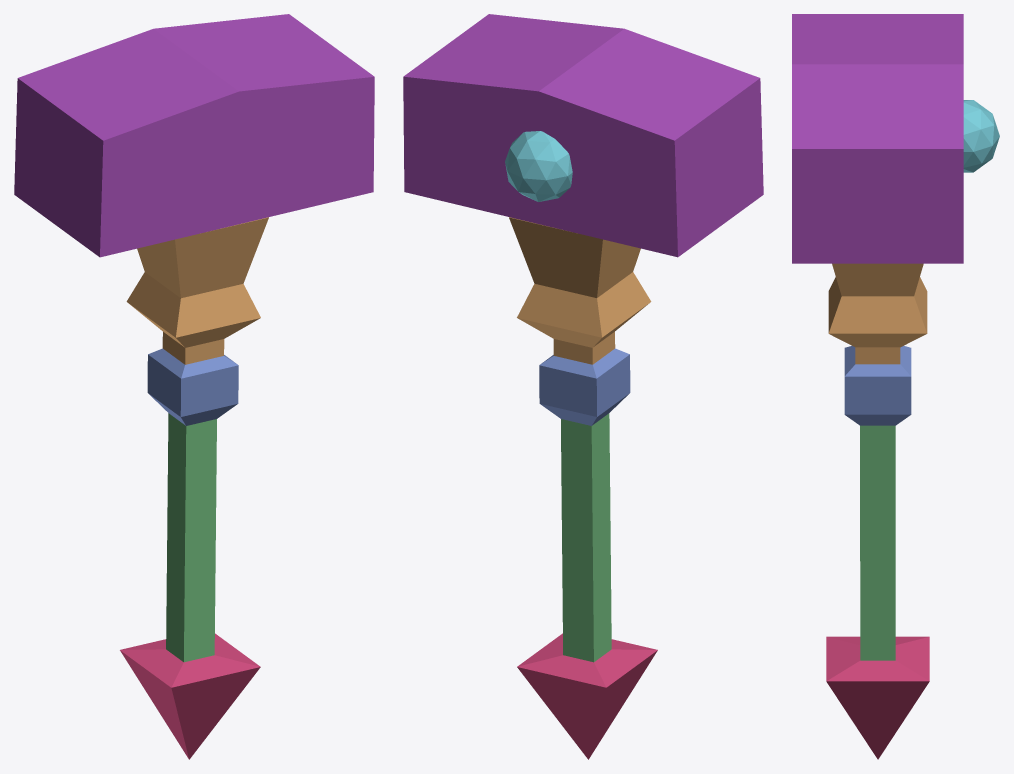
File: full_24.glb
3 views of the same model, side by side, from view 1: azimuth 30°, elevation 25°; view 2: azimuth 150°, elevation 25°; view 3: azimuth 270°, elevation 25° (orthographic).
Parts seen in each view (by area): view 1: world; view 2: world; view 3: world.
Boxes of the visible parts, x1,y1,x2,y2 form: world: (14,14,374,759); world: (403,14,763,759); world: (792,14,999,759).
Bounding box in the file's own units: 0.3696 × 0.8972 × 0.2419.
